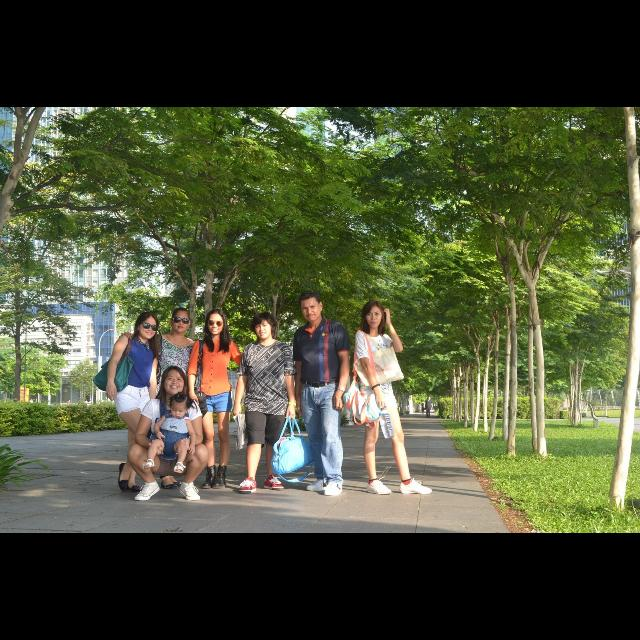head: (299, 292, 323, 322), (163, 366, 185, 396), (137, 312, 159, 340), (364, 300, 384, 330), (253, 313, 275, 339), (169, 307, 191, 333), (170, 394, 192, 420), (206, 310, 226, 336), (427, 397, 431, 401), (423, 404, 425, 406)
person: (343, 299, 435, 497), (118, 308, 202, 490), (233, 311, 314, 497), (93, 310, 165, 492), (290, 291, 352, 497), (126, 364, 210, 502), (187, 307, 246, 488), (142, 391, 198, 473), (424, 396, 434, 419), (420, 403, 426, 415)
